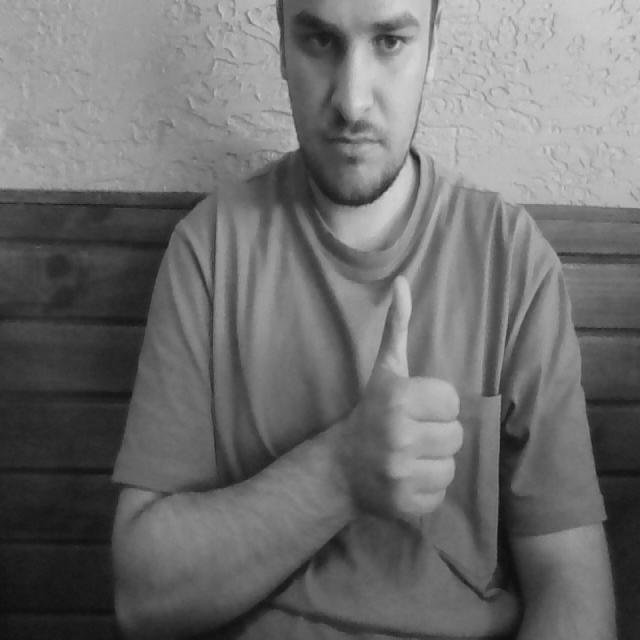Tamam: (345, 264, 474, 522)
